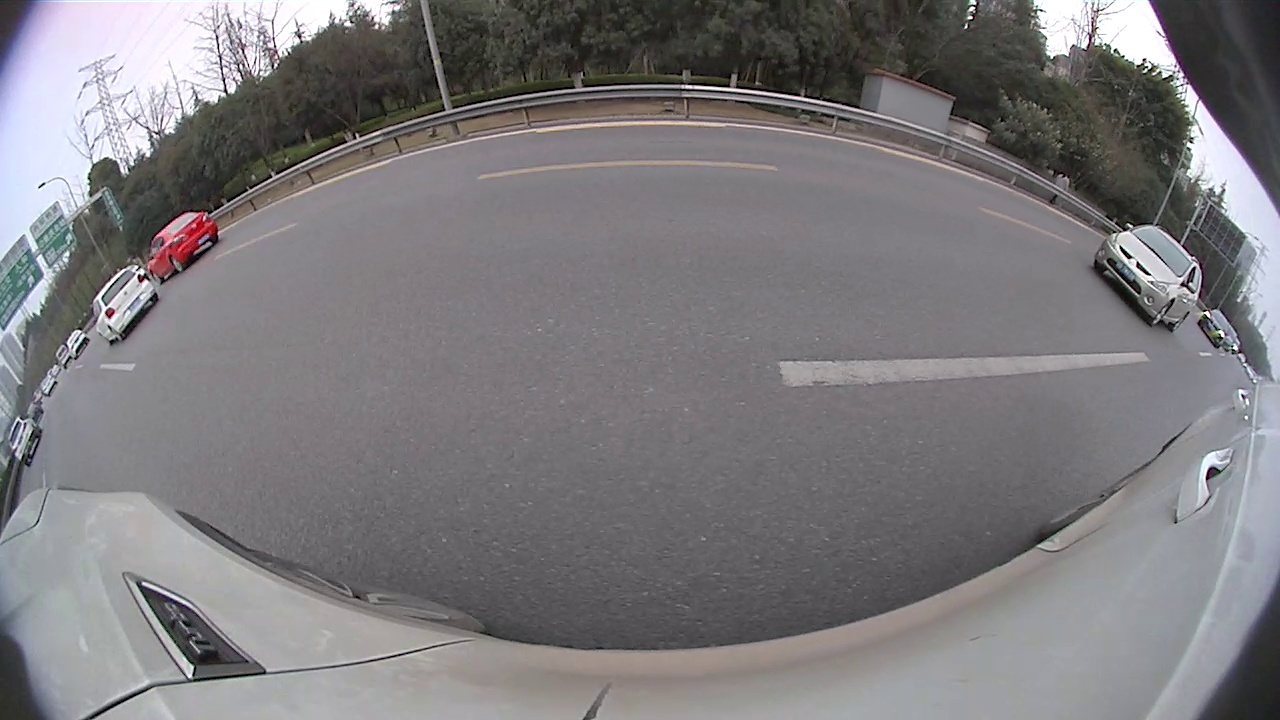car: (1092, 222, 1204, 333), (90, 265, 160, 346), (146, 209, 220, 284), (6, 415, 44, 468), (1196, 307, 1234, 349), (65, 327, 90, 361)
front: (1151, 302, 1171, 328)
rear: (170, 256, 183, 273)
